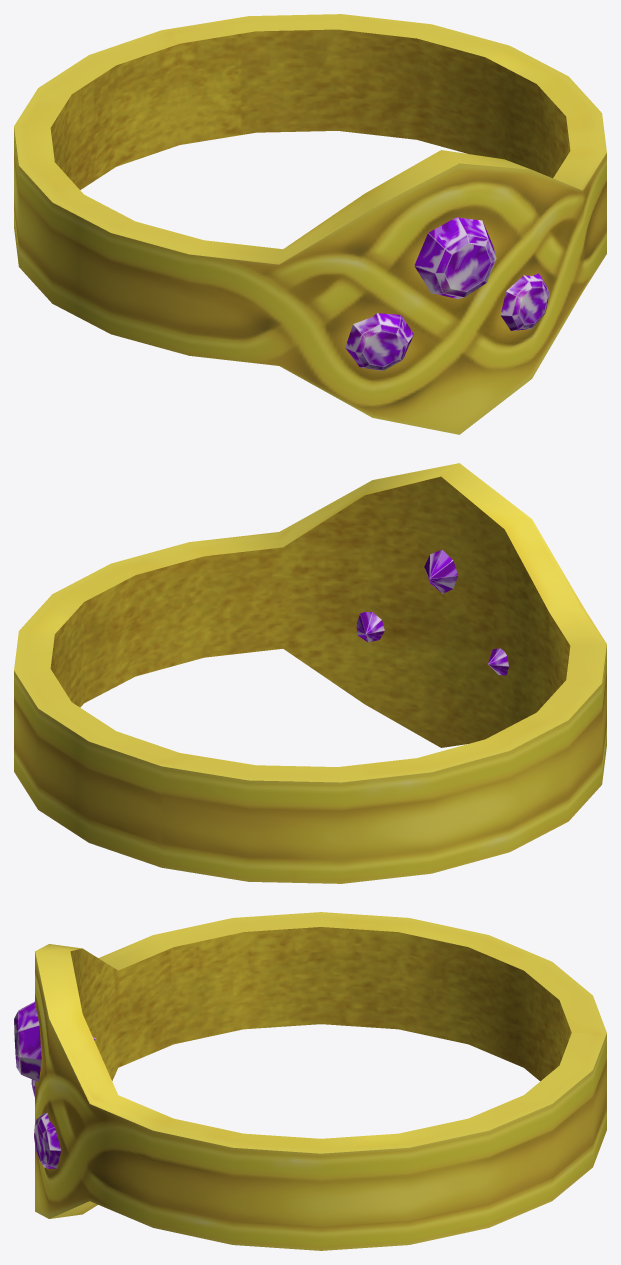
Rendered from ring_gold_01.fbx.
The picture shows the model from 3 angles, top to bottom: view 1: azimuth 30°, elevation 25°; view 2: azimuth 150°, elevation 25°; view 3: azimuth 270°, elevation 25°; orthographic projection. The views are drawn at different scales.
Visible parts, largest first — view 1: ring_gold_01; view 2: ring_gold_01; view 3: ring_gold_01.
Boxes of the visible parts, <box> form: ring_gold_01: <box>14,14,606,434</box>; ring_gold_01: <box>14,463,606,883</box>; ring_gold_01: <box>14,912,606,1250</box>.
Bounding box in the file's own units: 2.04 × 1.03 × 2.12.
